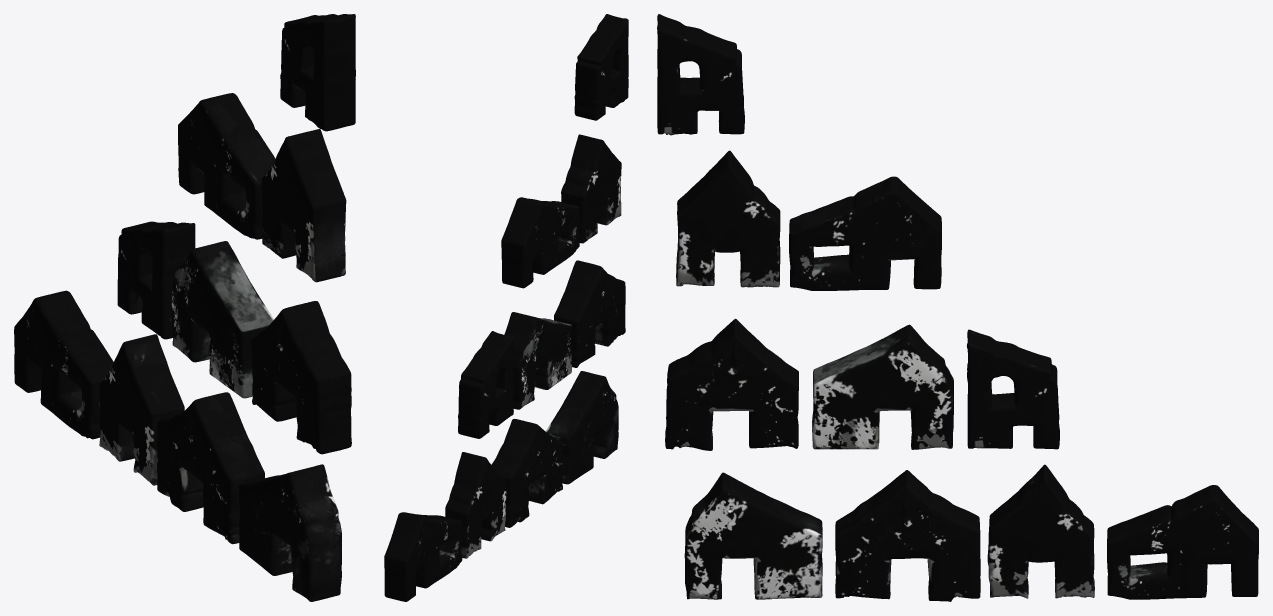
Rendered from gaw-houses.glb.
The picture shows the model from 3 angles, left to right: view 1: azimuth 30°, elevation 25°; view 2: azimuth 150°, elevation 25°; view 3: azimuth 270°, elevation 25°; orthographic projection. The views are drawn at different scales.
Parts seen in each view (by area): view 1: tripo_node_923c3675-f6d6-4fcb-b5db-fd85701ffaff; view 2: tripo_node_923c3675-f6d6-4fcb-b5db-fd85701ffaff; view 3: tripo_node_923c3675-f6d6-4fcb-b5db-fd85701ffaff.
Boxes of the visible parts, x1,y1,x2,y2 form: tripo_node_923c3675-f6d6-4fcb-b5db-fd85701ffaff: (14,14,355,601); tripo_node_923c3675-f6d6-4fcb-b5db-fd85701ffaff: (384,14,628,601); tripo_node_923c3675-f6d6-4fcb-b5db-fd85701ffaff: (657,14,1258,601).
Bounding box in the file's own units: 0.0875 × 0.9999 × 0.9509.
Materials: 1 (1 with a texture image).
